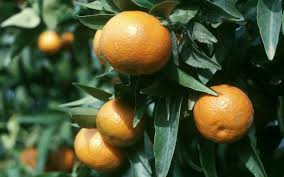orange: (100, 11, 173, 71), (191, 81, 255, 138), (92, 94, 145, 145), (67, 125, 127, 169)
